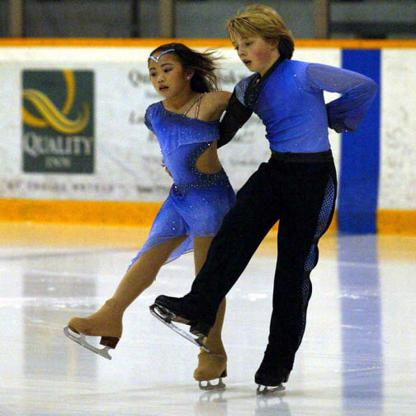face: (230, 25, 273, 71), (151, 55, 187, 99)
